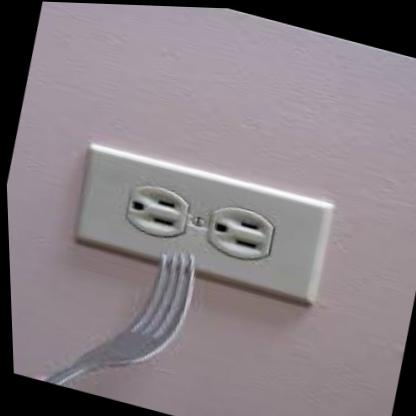OUTLET: (65, 140, 338, 306)
